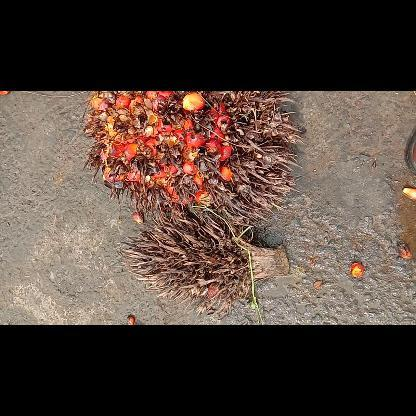Janjang kosong: (119, 211, 289, 315)
Terlalu masak: (83, 91, 303, 225)
